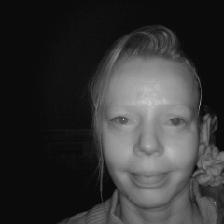happy: (76, 27, 219, 212)
